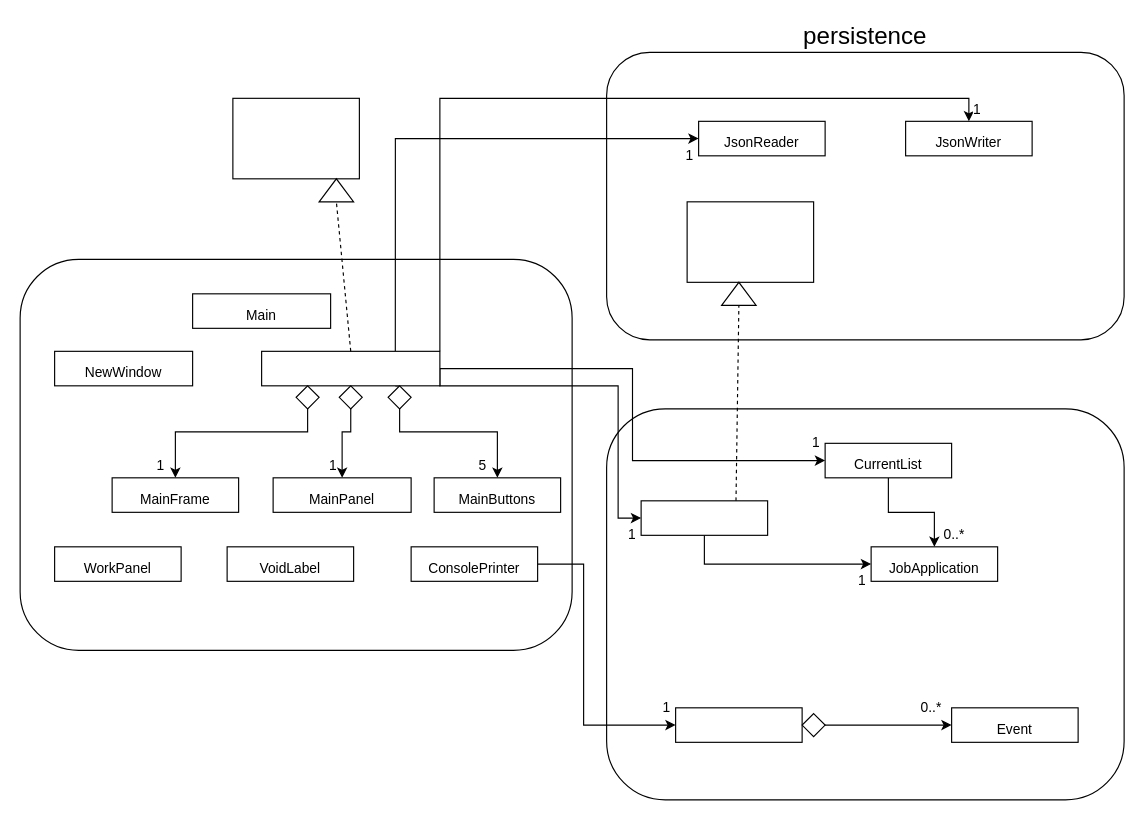
This 1144x820 diagram has some shape labels left out. Each missing label, with the box of its shape:
<<interface>> ActionListener: (232, 97, 359, 179)
<<interface>> Writable: (686, 201, 814, 282)
EventCaller: (640, 500, 768, 535)
EventLog: (674, 707, 802, 742)
GraphicalUserInterface: (260, 350, 440, 386)
model: (605, 408, 1124, 800)
UI: (19, 258, 572, 650)
